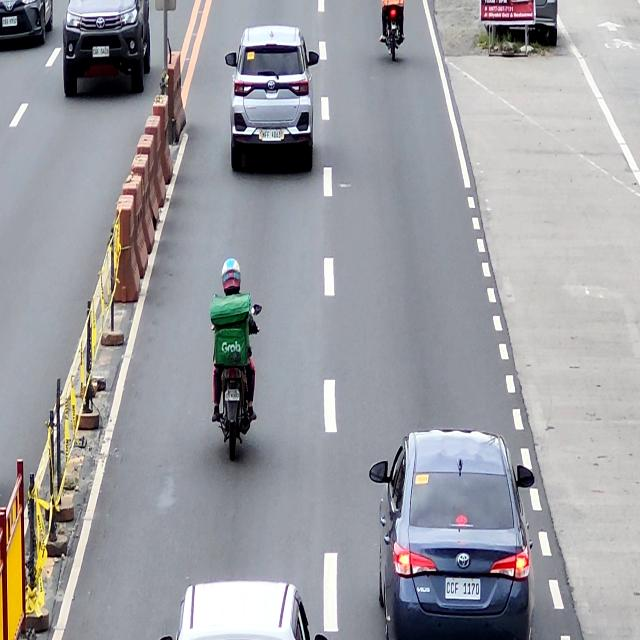Car: (369, 429, 535, 640), (224, 25, 320, 170)
License-Plate: (445, 577, 480, 600), (262, 128, 282, 142), (225, 388, 240, 403)
Motorcycle: (210, 299, 260, 462)
